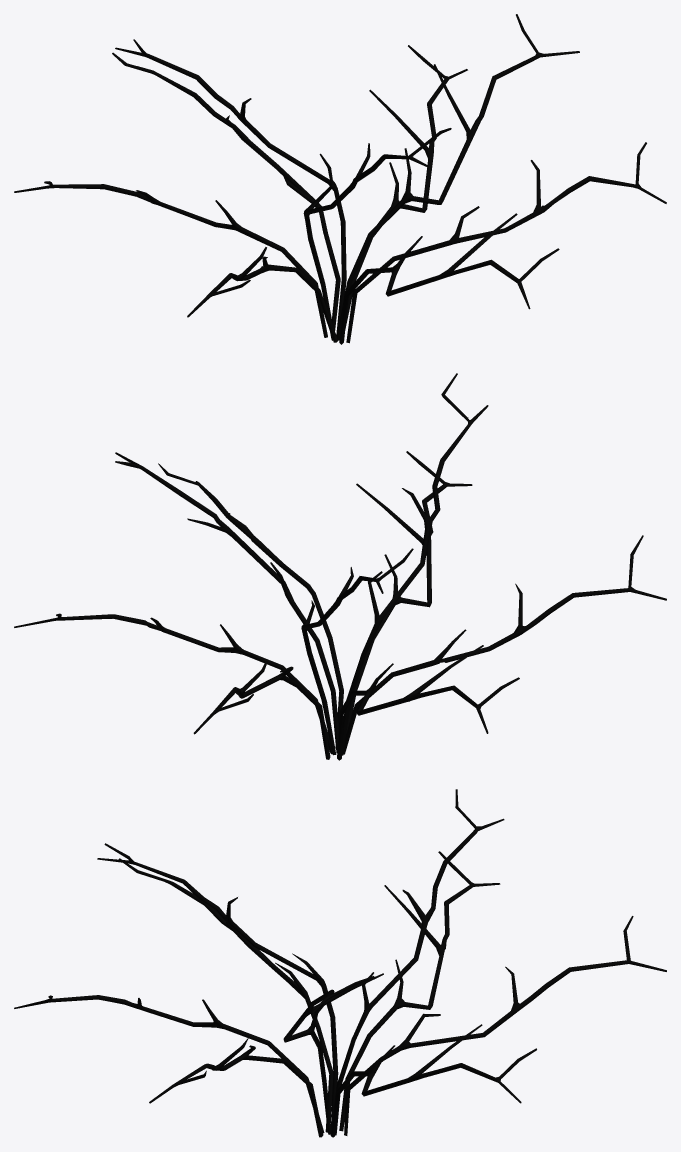
The model's file is PW_M_Shrub_03.fbx.
3 views of the same model, one above another, from view 1: azimuth 30°, elevation 25°; view 2: azimuth 150°, elevation 25°; view 3: azimuth 270°, elevation 25° (orthographic). The views are drawn at different scales.
Parts seen in each view (by area): view 1: PW_DD_shrub_03_LOD0; view 2: PW_DD_shrub_03_LOD0; view 3: PW_DD_shrub_03_LOD0.
Boxes of the visible parts, x1=… form: PW_DD_shrub_03_LOD0: x1=14, y1=14, x2=666, y2=344; PW_DD_shrub_03_LOD0: x1=14, y1=373, x2=666, y2=760; PW_DD_shrub_03_LOD0: x1=14, y1=789, x2=666, y2=1137.
Size of what is drawn, in the model's own units: 1.05 by 0.6153 by 1.25.
Materials: 1 (1 with a texture image).
